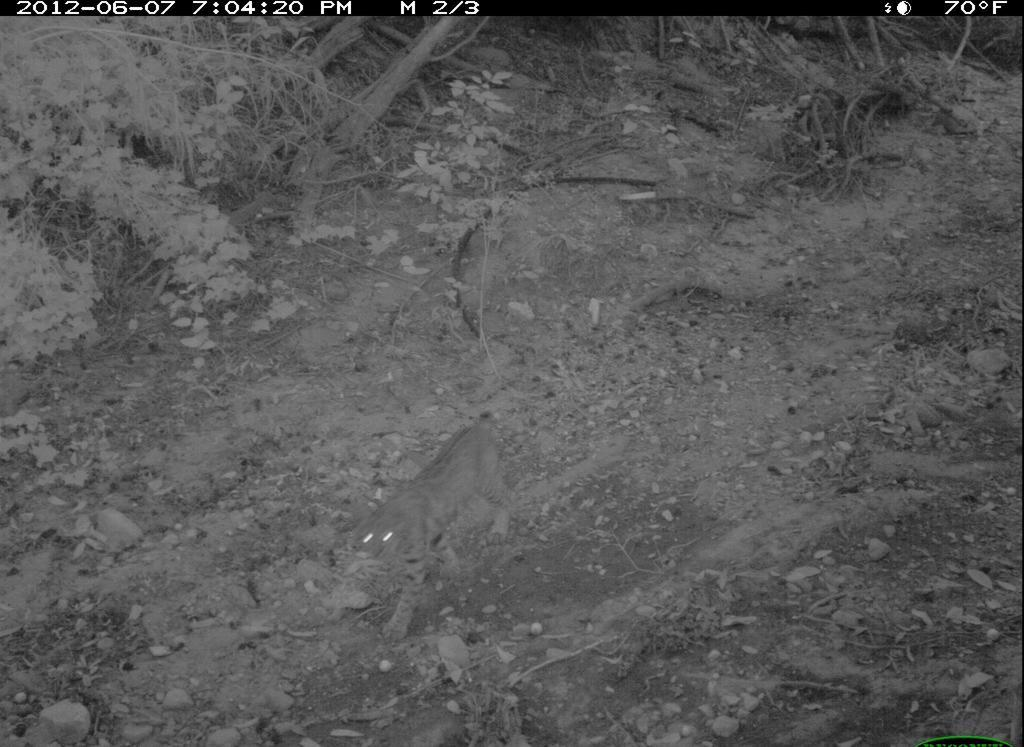bobcat: (340, 396, 521, 644)
